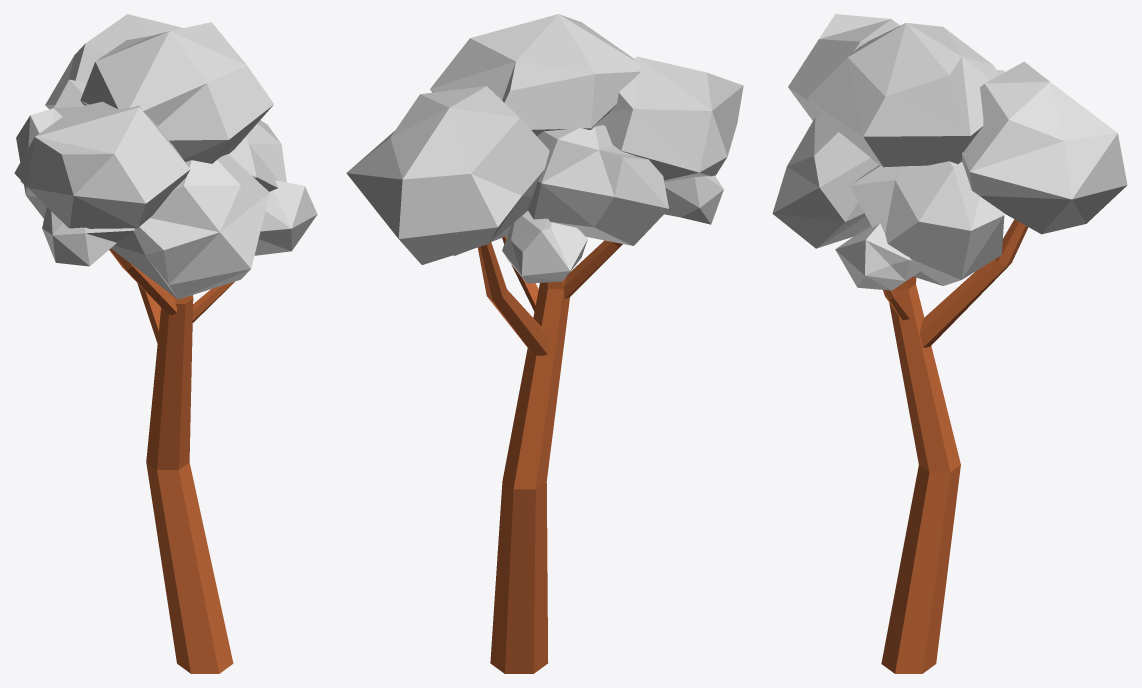
The model's file is leaftree01.fbx.
3 views of the same model, side by side, from view 1: azimuth 30°, elevation 25°; view 2: azimuth 150°, elevation 25°; view 3: azimuth 270°, elevation 25° (orthographic). The views are drawn at different scales.
Parts seen in each view (by area): view 1: Cylinder; view 2: Cylinder; view 3: Cylinder.
Boxes of the visible parts, x1,y1,x2,y2 form: Cylinder: (14, 14, 317, 673); Cylinder: (346, 14, 743, 673); Cylinder: (772, 14, 1127, 673).
Size of the model in its own units: 117 by 253 by 130.
